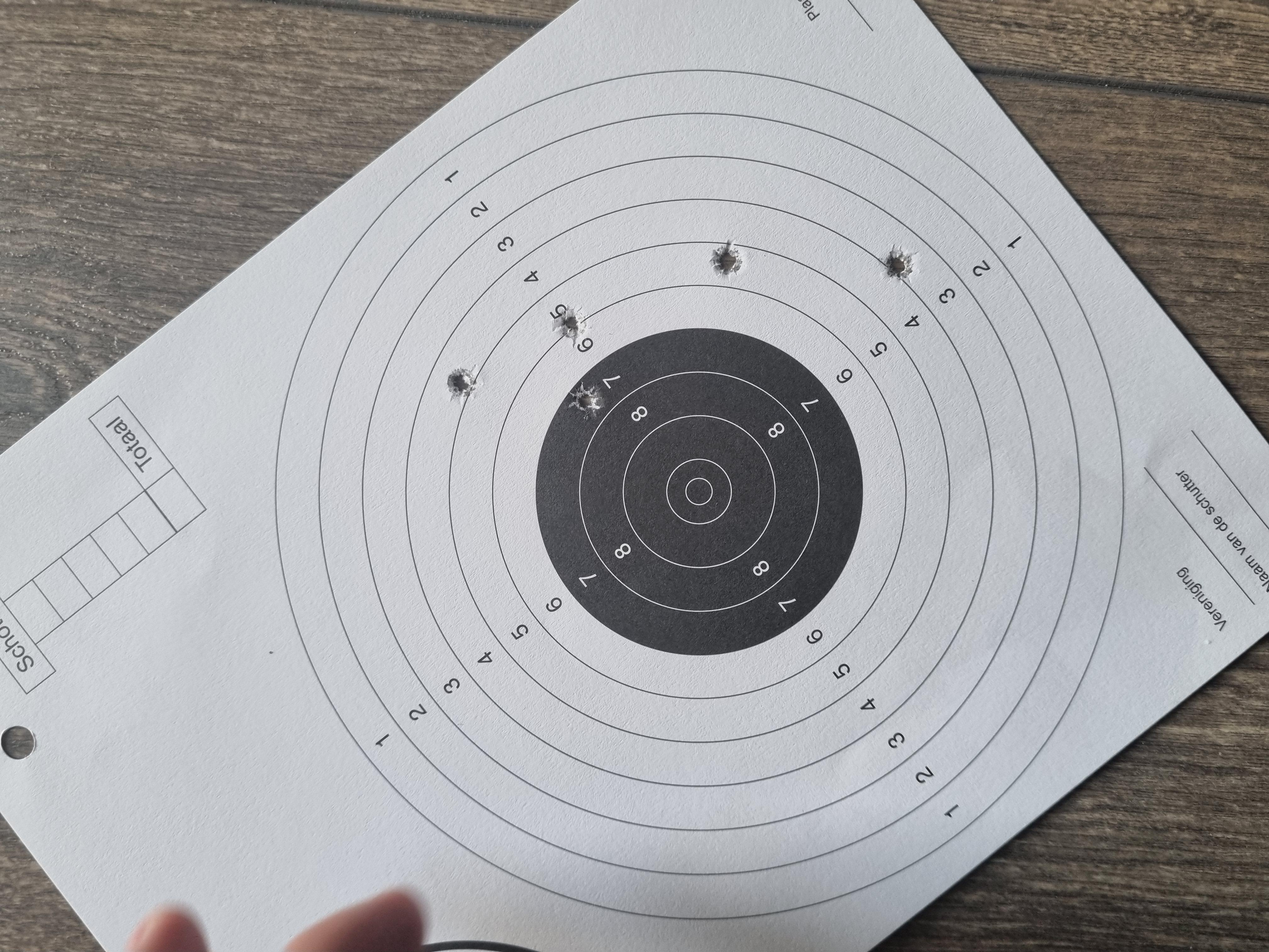hole: (807, 414, 860, 440), (711, 426, 761, 451), (895, 661, 941, 685), (901, 533, 949, 556), (736, 335, 782, 358)
